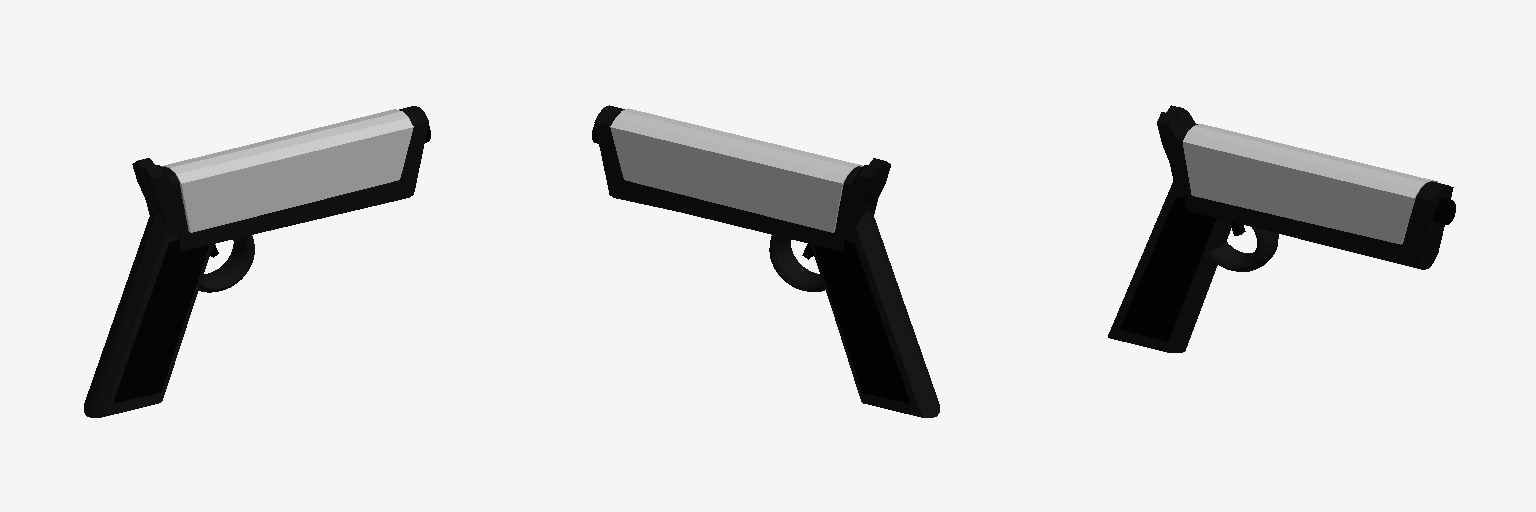
The model's file is Gun.obj.
3 views of the same model, side by side, from view 1: azimuth 30°, elevation 25°; view 2: azimuth 150°, elevation 25°; view 3: azimuth 330°, elevation 25° (orthographic).
Visible parts, largest first — view 1: Barrel.001_Cube.005, Cube, Grip_Cube.001, Barrel_Cube.003, Hammer_Cube.004, Torus; view 2: Barrel.001_Cube.005, Cube, Grip.001_Cube.002, Barrel_Cube.003, Hammer_Cube.004, Torus; view 3: Barrel.001_Cube.005, Barrel_Cube.003, Grip_Cube.001, Cube, Hammer_Cube.004, Torus.
Part boxes in pixels (bbox=[...]): Barrel.001_Cube.005: bbox=[161, 109, 413, 232]; Cube: bbox=[84, 212, 212, 417]; Grip_Cube.001: bbox=[113, 240, 208, 403]; Barrel_Cube.003: bbox=[162, 106, 428, 251]; Hammer_Cube.004: bbox=[132, 158, 187, 234]; Torus: bbox=[199, 235, 254, 292]; Barrel.001_Cube.005: bbox=[610, 108, 862, 232]; Cube: bbox=[810, 212, 939, 417]; Grip.001_Cube.002: bbox=[814, 240, 910, 403]; Barrel_Cube.003: bbox=[594, 105, 861, 251]; Hammer_Cube.004: bbox=[835, 158, 890, 234]; Torus: bbox=[769, 235, 824, 291]; Barrel.001_Cube.005: bbox=[1183, 124, 1437, 244]; Barrel_Cube.003: bbox=[1177, 123, 1453, 269]; Grip_Cube.001: bbox=[1120, 196, 1215, 341]; Cube: bbox=[1108, 180, 1230, 352]; Hammer_Cube.004: bbox=[1157, 105, 1195, 191]; Torus: bbox=[1208, 227, 1278, 271].
Size of the model in its own units: 6.11 by 4.12 by 0.72.